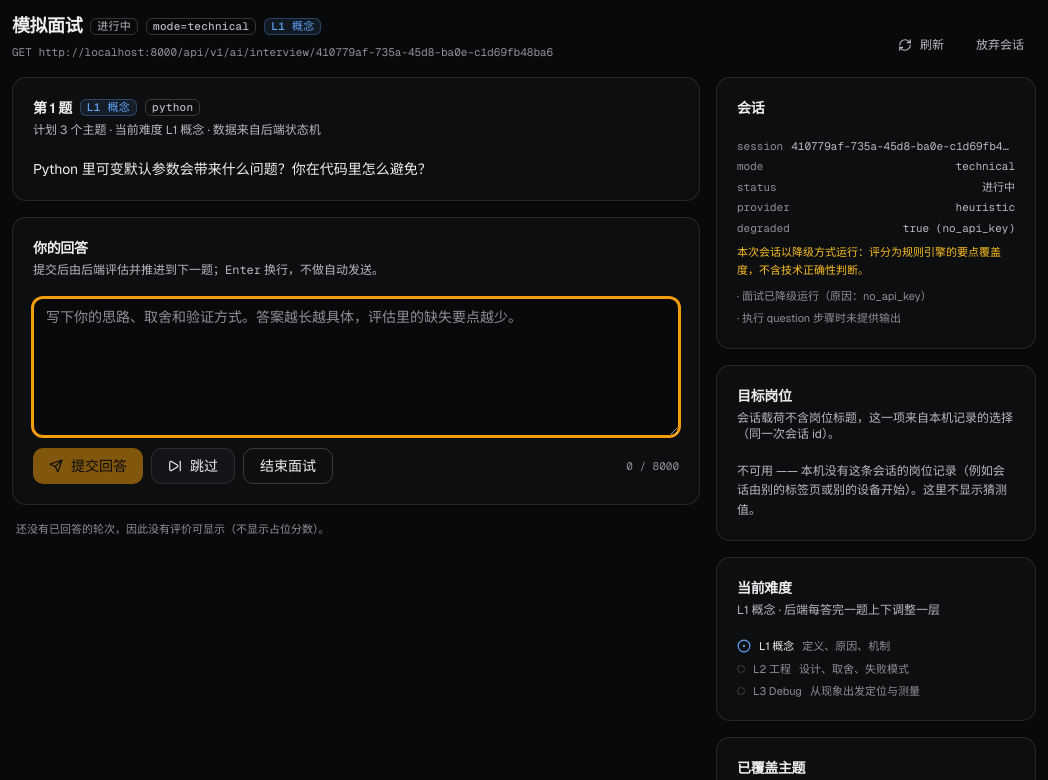
Test: the workspace › renders a demotion with the API reason
Expected: the text "Python 里可变默认参数会带来什么问题？你在代码里怎么避免？" is shown, [33,160,432,178]
In the text box named "你的回答": (356, 367) [33,298,679,436], type "我用 None 作为默认值，避免可变对象在多次调用之间被共享。"
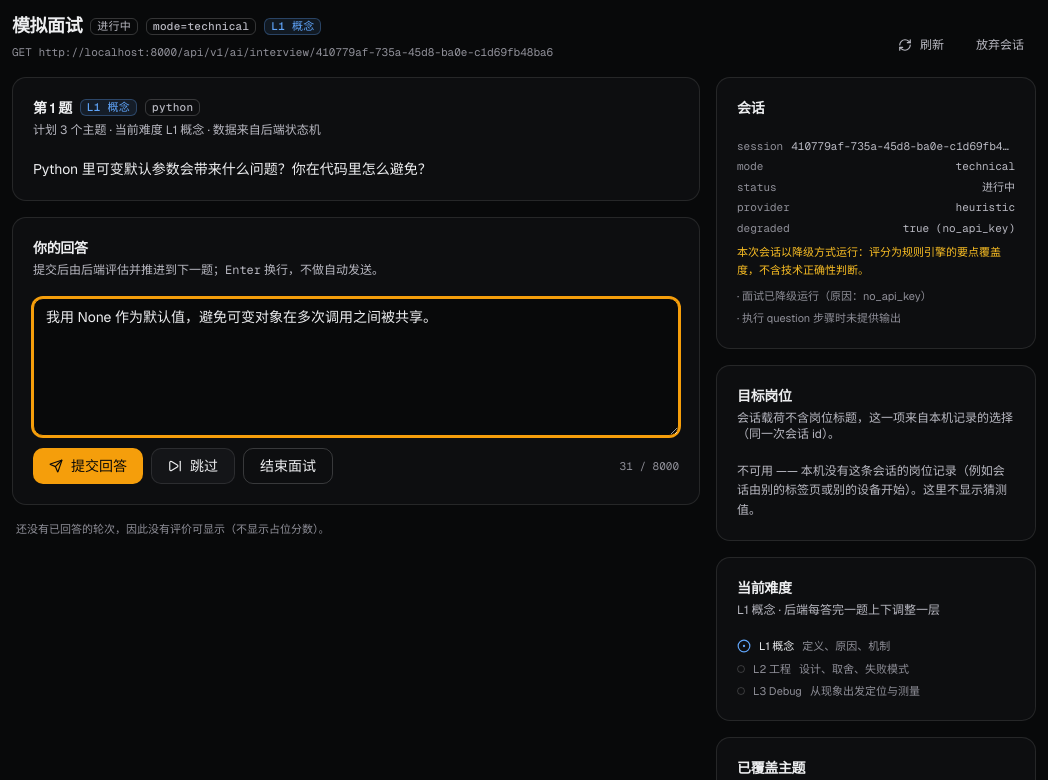
Click the button "提交回答": (88, 466) [33,448,143,484]
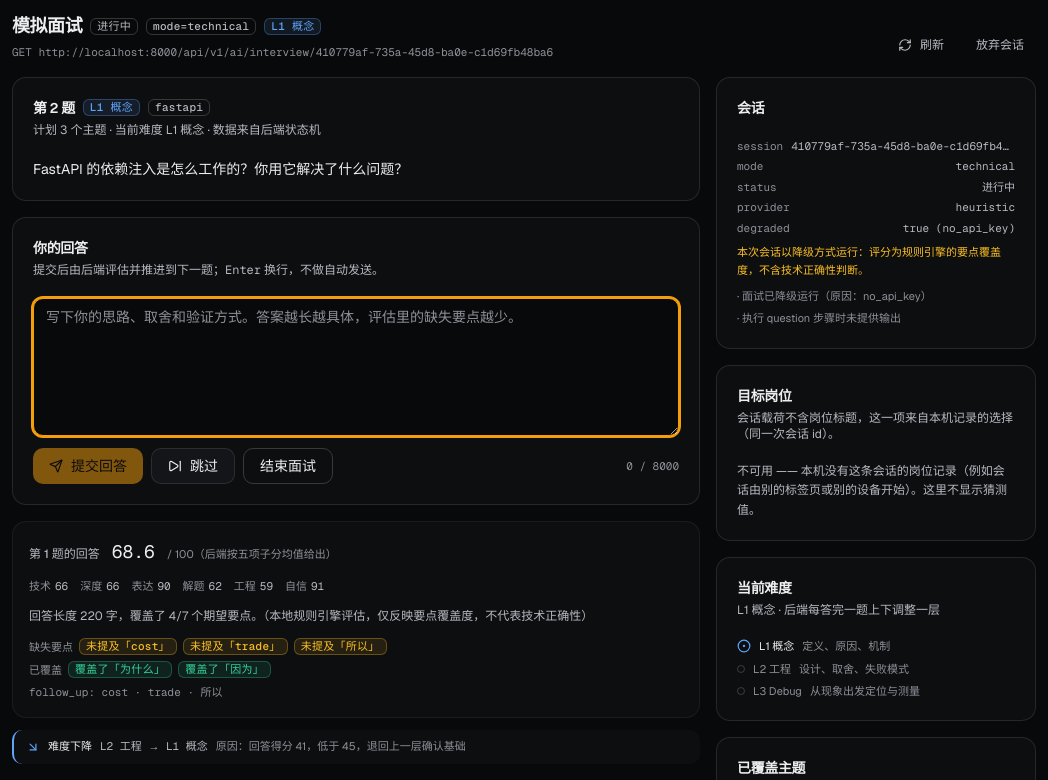
Now the text "难度下降" is shown, box [48,738,92,756]
Now the text "原因：回答得分 41，低于 45，退回上一层确认基础" is shown, box [216,738,466,756]
